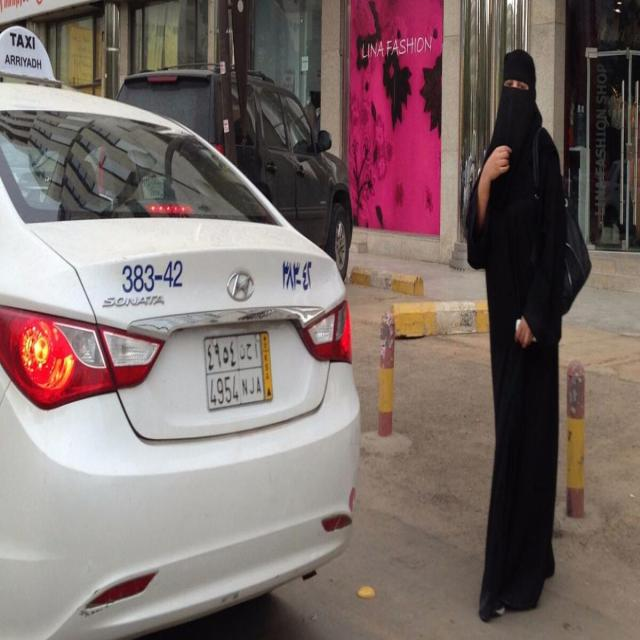license_plate: (201, 333, 275, 414)
